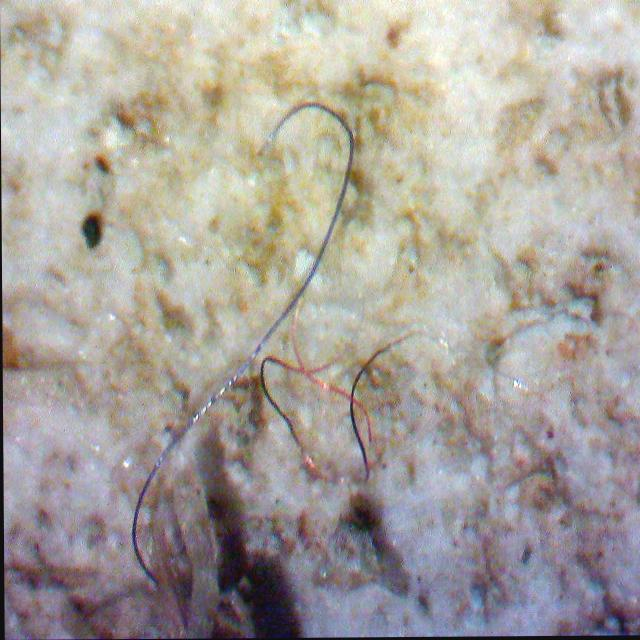microplastic: (111, 92, 372, 600), (256, 331, 439, 500), (306, 365, 384, 441)
